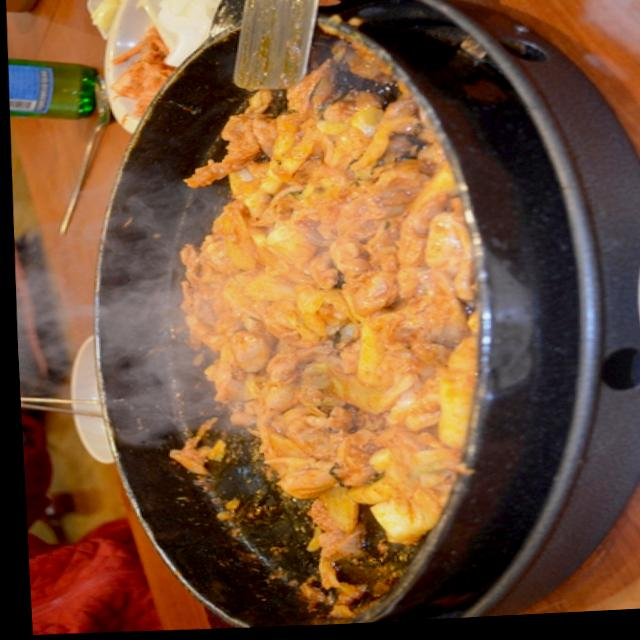鸡肉料理 含炸鸡: (82, 32, 591, 588)
